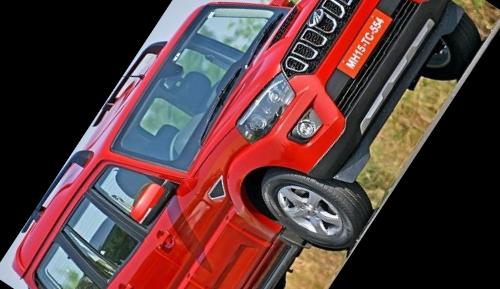plate: (330, 1, 400, 81)
